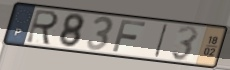3: (169, 25, 202, 62), (85, 16, 115, 52)
8: (56, 12, 86, 50)
F: (111, 19, 148, 54)
I: (152, 23, 170, 59)
R: (24, 8, 61, 47)
